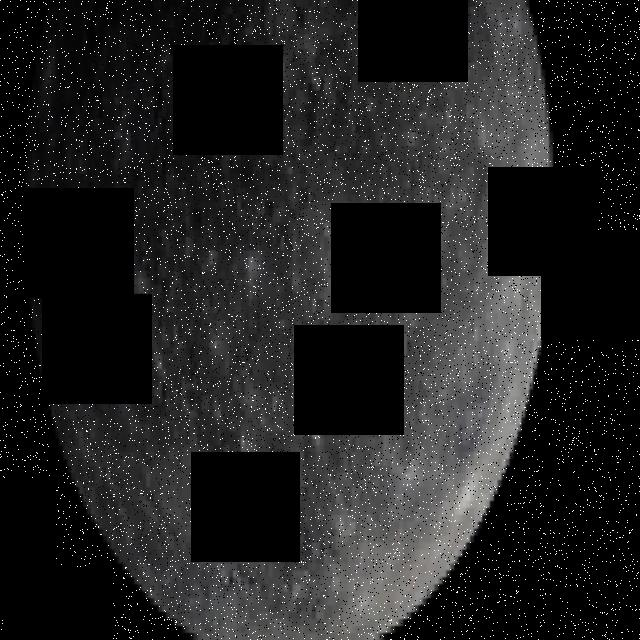Mercury: (19, 0, 554, 640)
